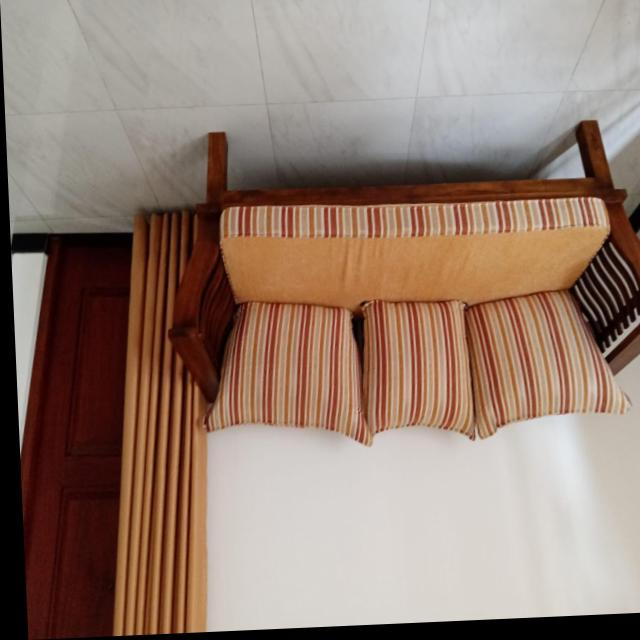Sofa: (156, 116, 640, 446)
